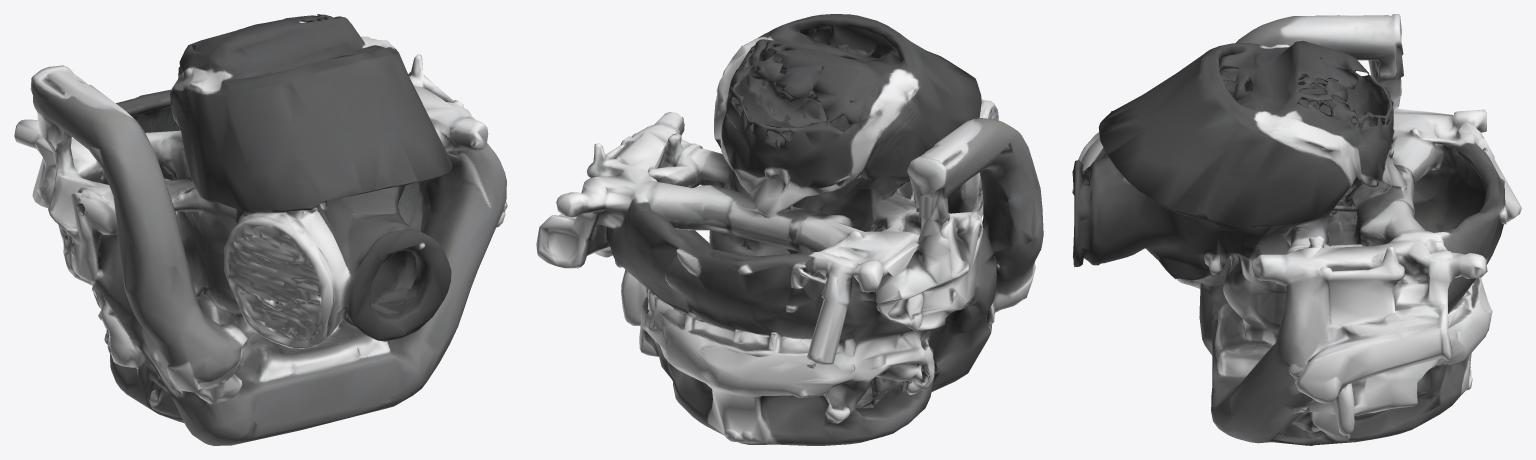
The model's file is intake-system.glb.
3 renders of one model, left to right at view 1: azimuth 30°, elevation 25°; view 2: azimuth 150°, elevation 25°; view 3: azimuth 270°, elevation 25°, orthographic. The views are drawn at different scales.
Size of the model in its own units: 1.99 by 1.67 by 2.
Materials: 1 (1 with a texture image).
